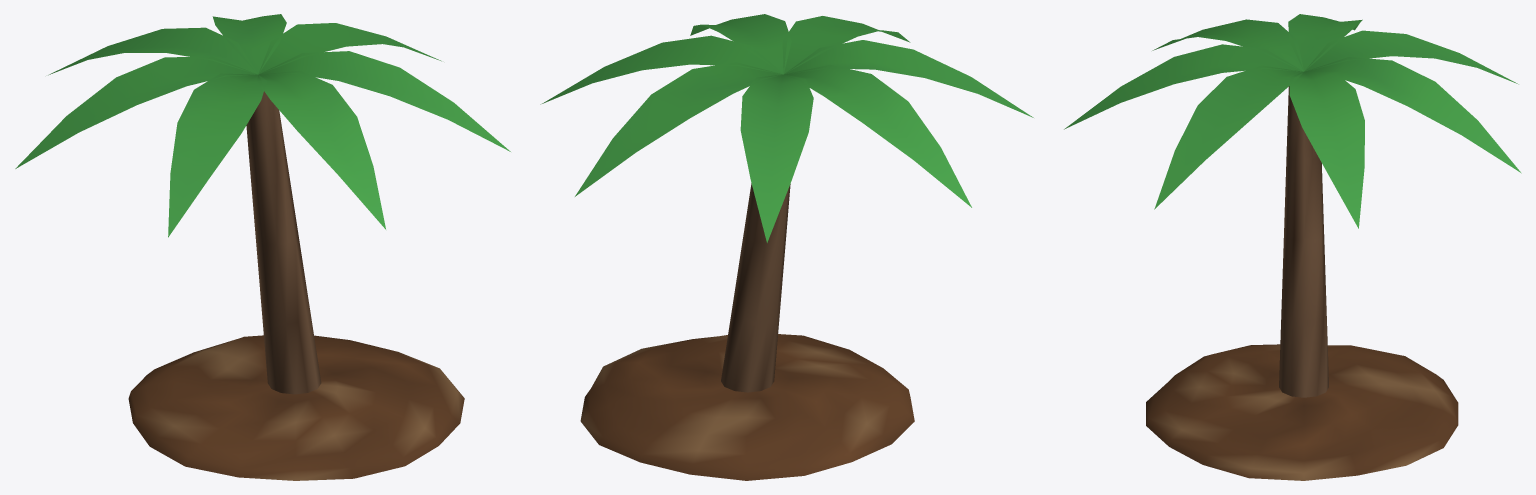
File: plant-coconut-1.gltf
3 views of the same model, side by side, from view 1: azimuth 30°, elevation 25°; view 2: azimuth 150°, elevation 25°; view 3: azimuth 270°, elevation 25° (orthographic). The views are drawn at different scales.
Bounding box in the file's own units: 1.9 × 1.51 × 1.85.
